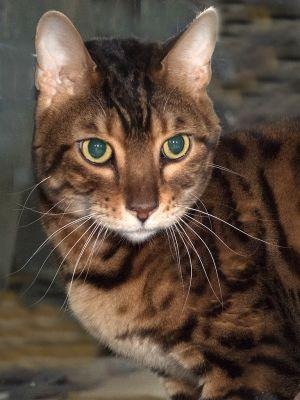bengal: (26, 1, 221, 259)
